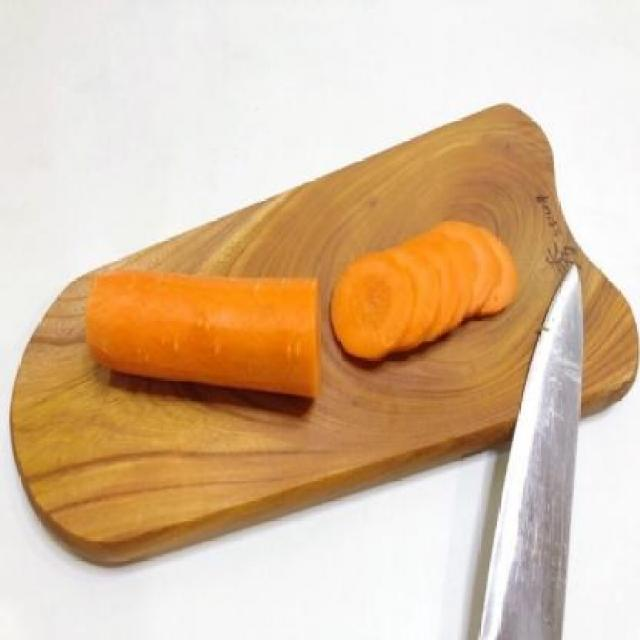carrot: (81, 264, 332, 416)
